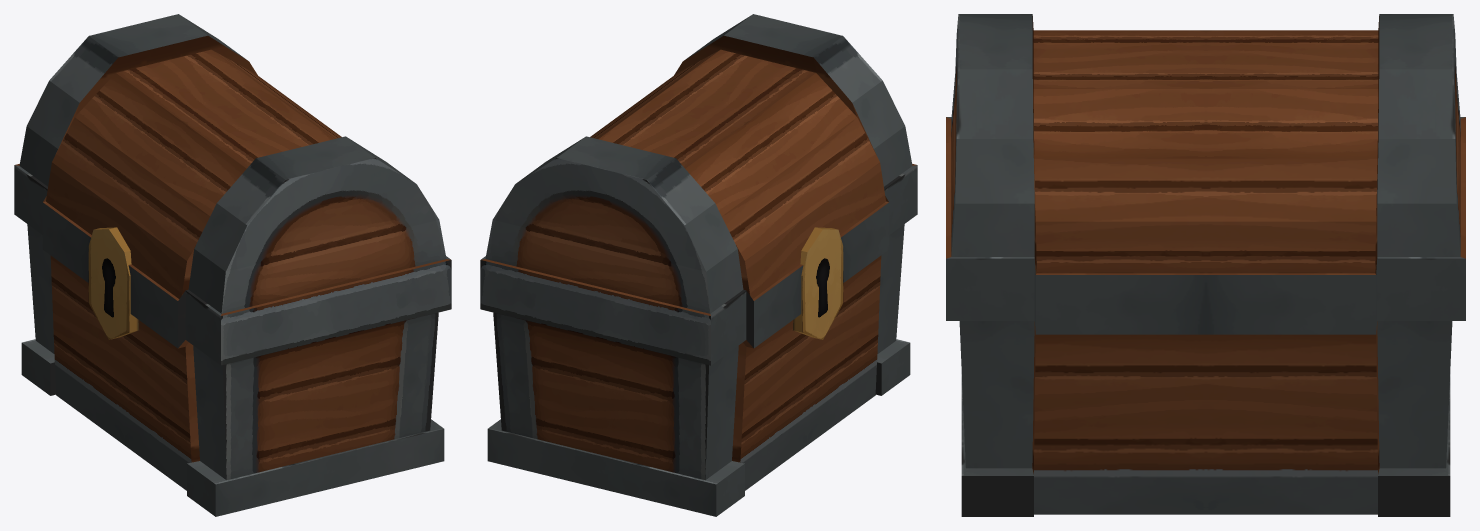
Rendered from Chest.fbx.
3 views of the same model, side by side, from view 1: azimuth 30°, elevation 25°; view 2: azimuth 150°, elevation 25°; view 3: azimuth 270°, elevation 25° (orthographic). The views are drawn at different scales.
Parts seen in each view (by area): view 1: Cube.001; view 2: Cube.001; view 3: Cube.001.
Boxes of the visible parts, bbox=[...] form: Cube.001: bbox=[14, 14, 451, 516]; Cube.001: bbox=[480, 14, 917, 516]; Cube.001: bbox=[946, 14, 1465, 516].
Size of the model in its own units: 176 by 220 by 256.
